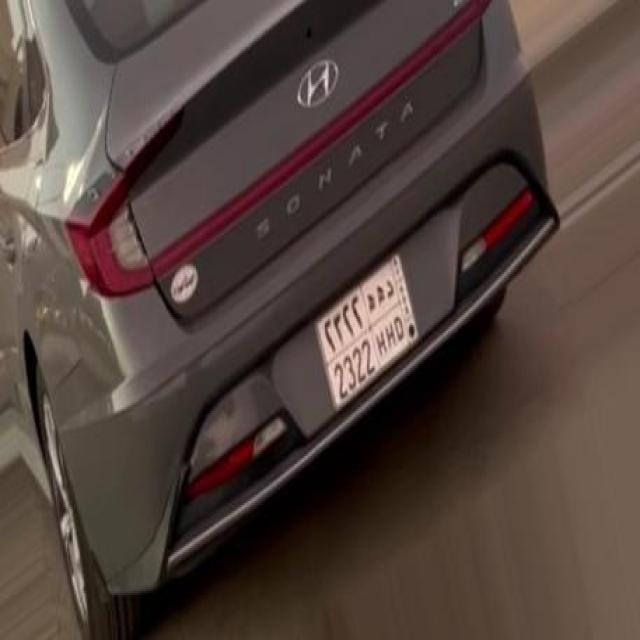Car-plate: (313, 240, 424, 415)
